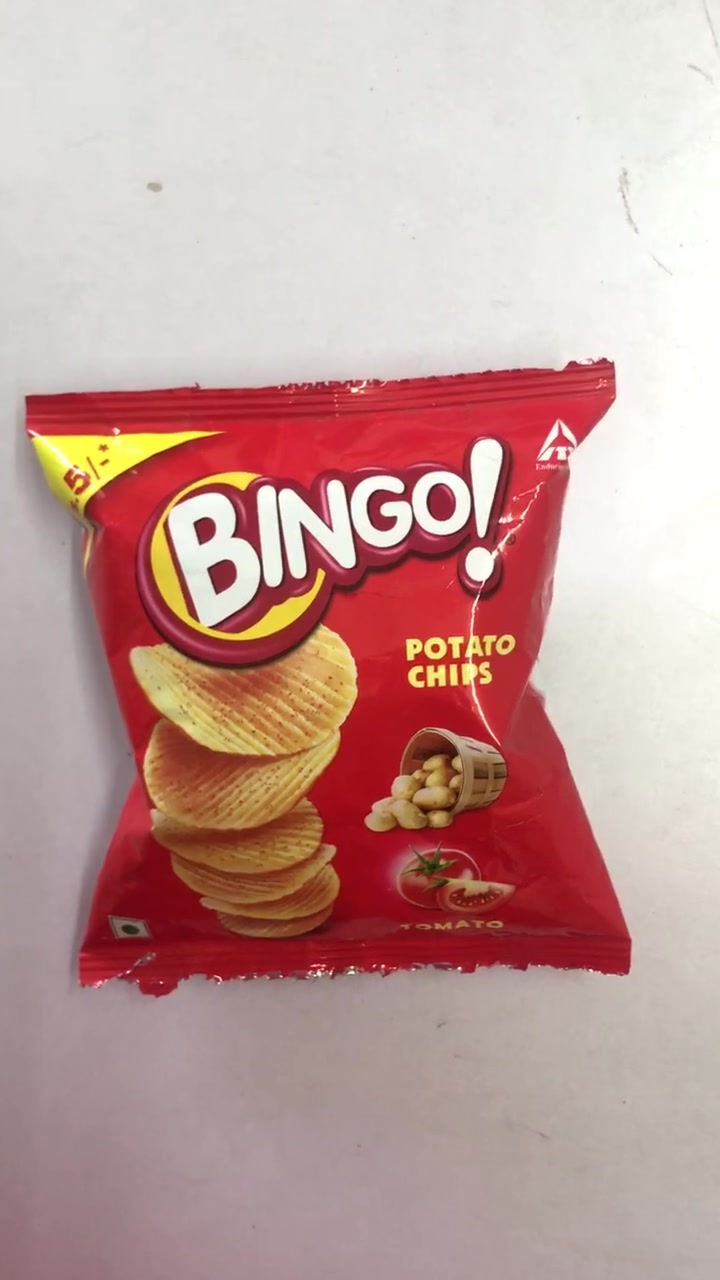Bingo: (31, 393, 627, 977)
